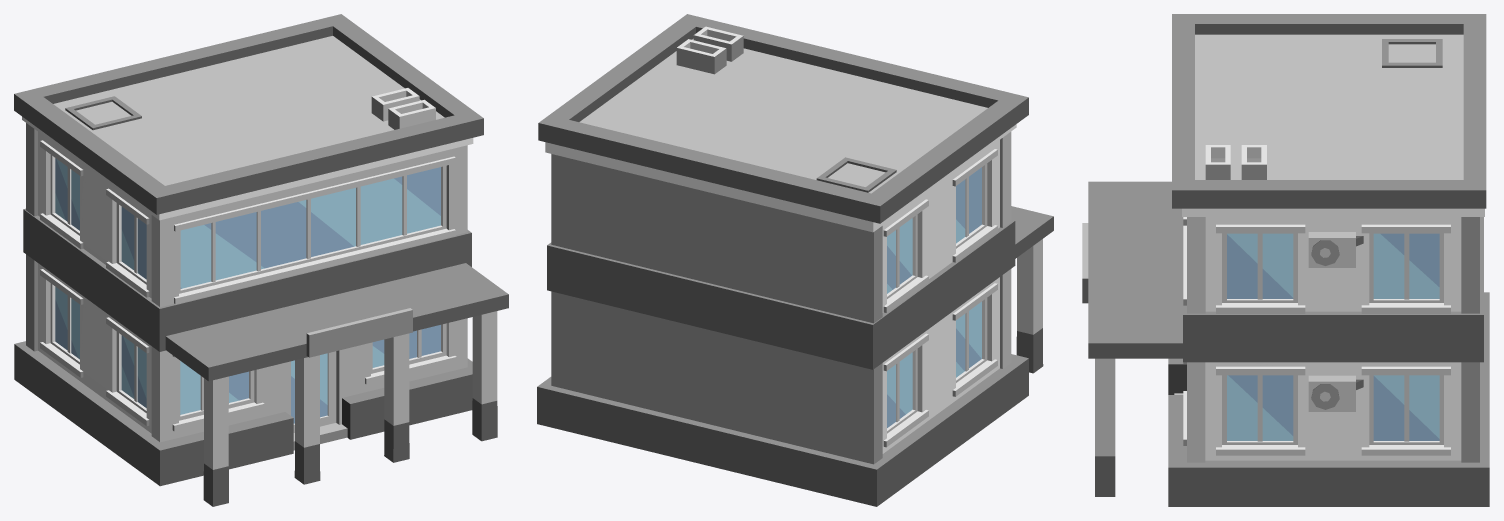
The model's file is bank_004.glb.
3 renders of one model, left to right at view 1: azimuth 30°, elevation 25°; view 2: azimuth 150°, elevation 25°; view 3: azimuth 270°, elevation 25°, orthographic. The views are drawn at different scales.
Parts seen in each view (by area): view 1: bank_004; view 2: bank_004; view 3: bank_004.
Part boxes in pixels (box(x1,y1,x2,y2)): bank_004: box(14, 14, 508, 506); bank_004: box(537, 14, 1053, 506); bank_004: box(1082, 14, 1489, 506).
Bounding box in the file's own units: 7.14 × 6.16 × 6.98.
1 material, 1 textured.
